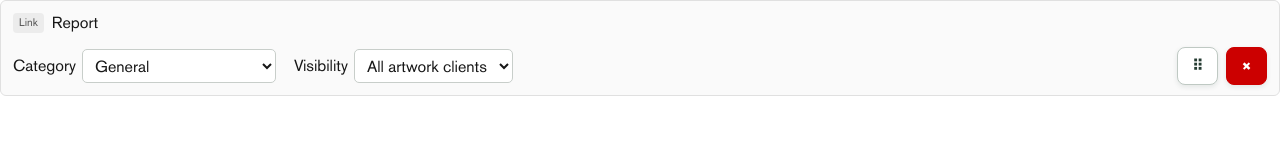
Test case: editing existing document visibility › shows category failures without reporting a successful move
Select "Images" in the dropdown named "Category for Report": (179, 66) top-left (82, 49), bottom-right (276, 83)
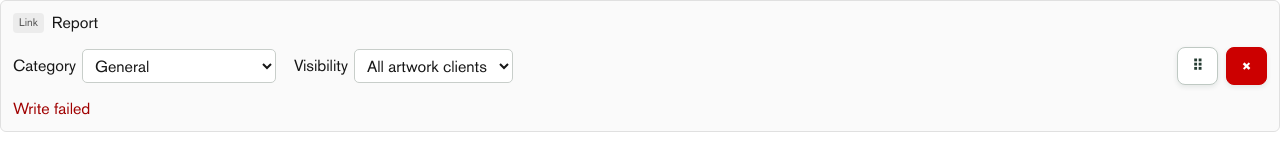
Now the message "Write failed" is shown, box top-left (13, 99), bottom-right (90, 118)
